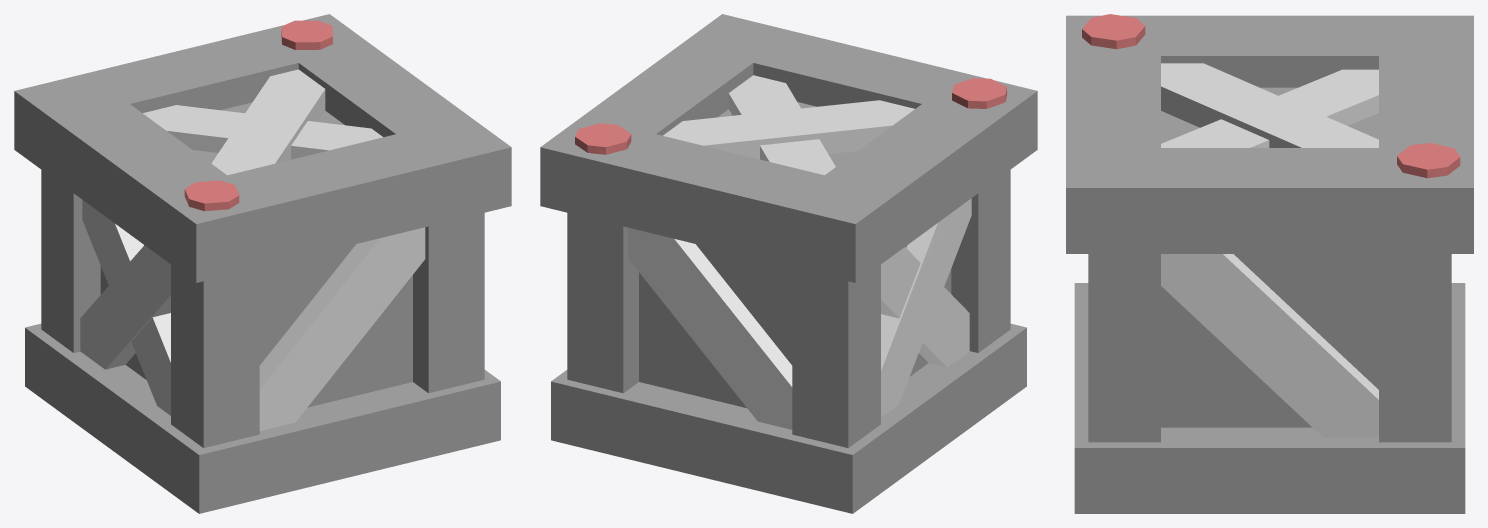
File: caisse en bois.fbx
3 renders of one model, left to right at view 1: azimuth 30°, elevation 25°; view 2: azimuth 150°, elevation 25°; view 3: azimuth 270°, elevation 25°, orthographic. The views are drawn at different scales.
Visible parts, largest first — view 1: Planche; view 2: Planche; view 3: Planche.
Part boxes in pixels (x1=…): Planche: x1=14, y1=14, x2=511, y2=513; Planche: x1=540, y1=14, x2=1037, y2=513; Planche: x1=1066, y1=14, x2=1473, y2=513.
Bounding box in the file's own units: 1.12 × 1.03 × 1.12.
